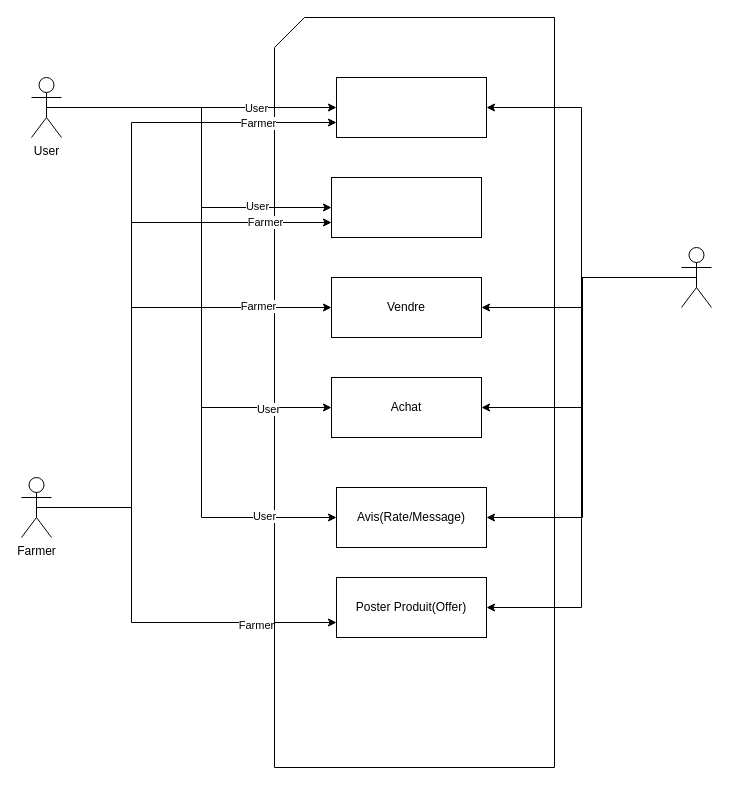
Image size: 731x785. Some labels were removed from this diagram. The centre of each missing label's shape, as x and y in pixels:
Admin: the point at 696,277
Log In: the point at 411,107
Sign up: the point at 406,207
